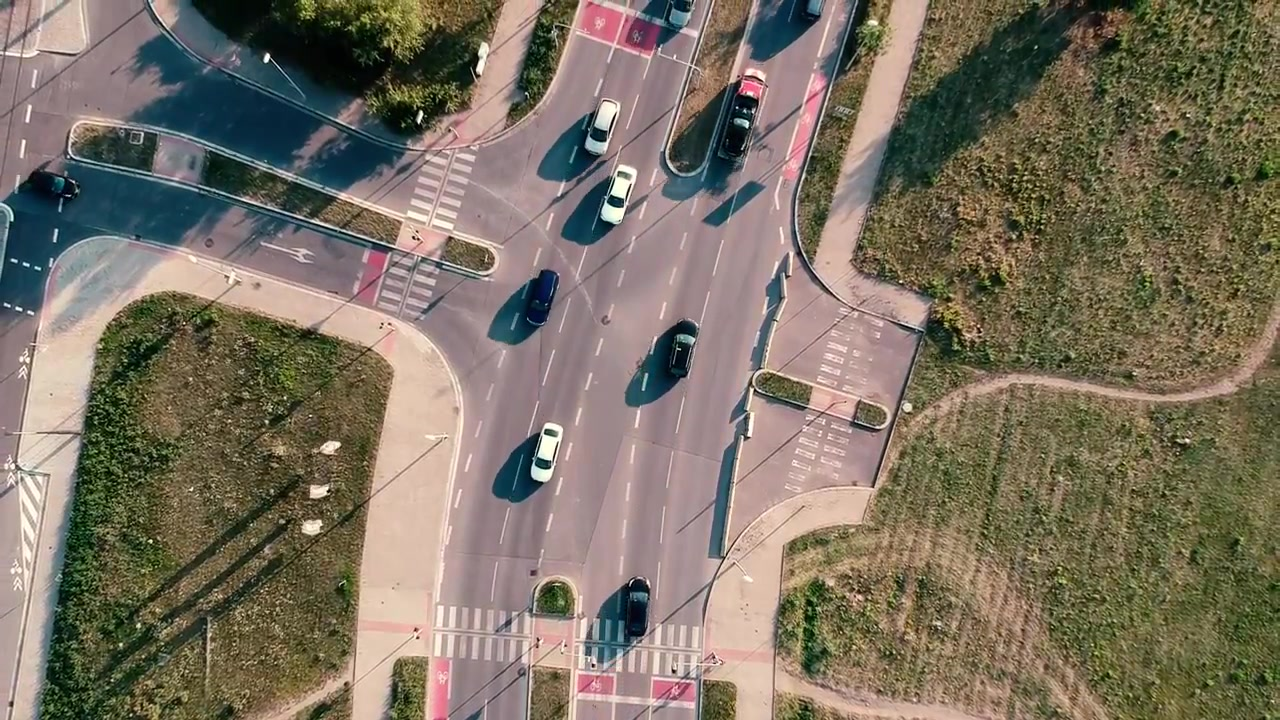car: (715, 66, 772, 166), (599, 162, 640, 228), (581, 94, 622, 159), (521, 266, 561, 329), (529, 420, 566, 486), (664, 317, 701, 379), (622, 574, 653, 641), (798, 1, 828, 31), (665, 1, 698, 27)
